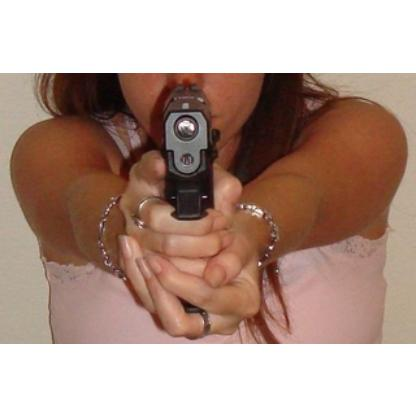gun: (151, 82, 225, 326)
